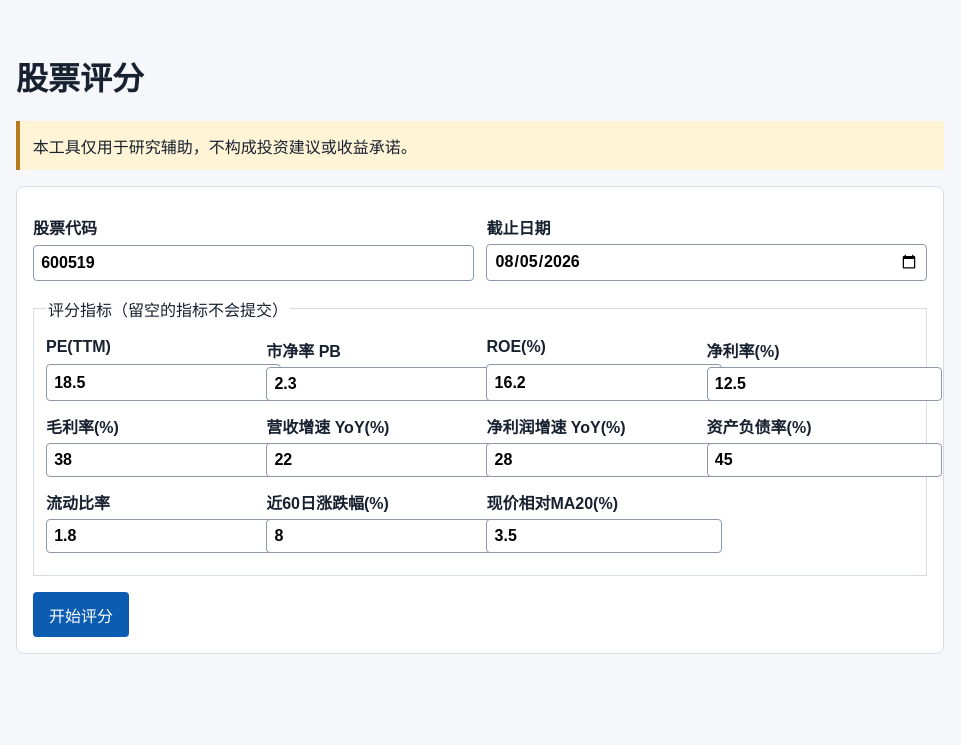
Test case: scoring page › shows only coverage and missing items for insufficient data
Clear the number field labelled "市净率 PB": (384, 384) [266,367,502,401]
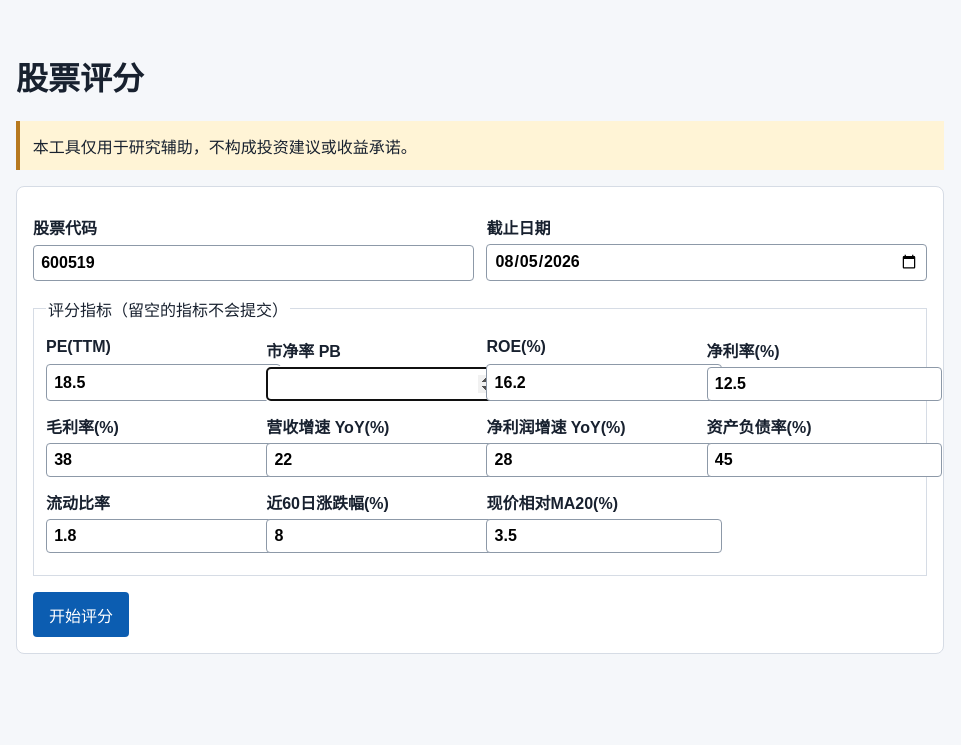
Click the button "开始评分": (81, 615) [33,592,129,637]
(page scrolled)
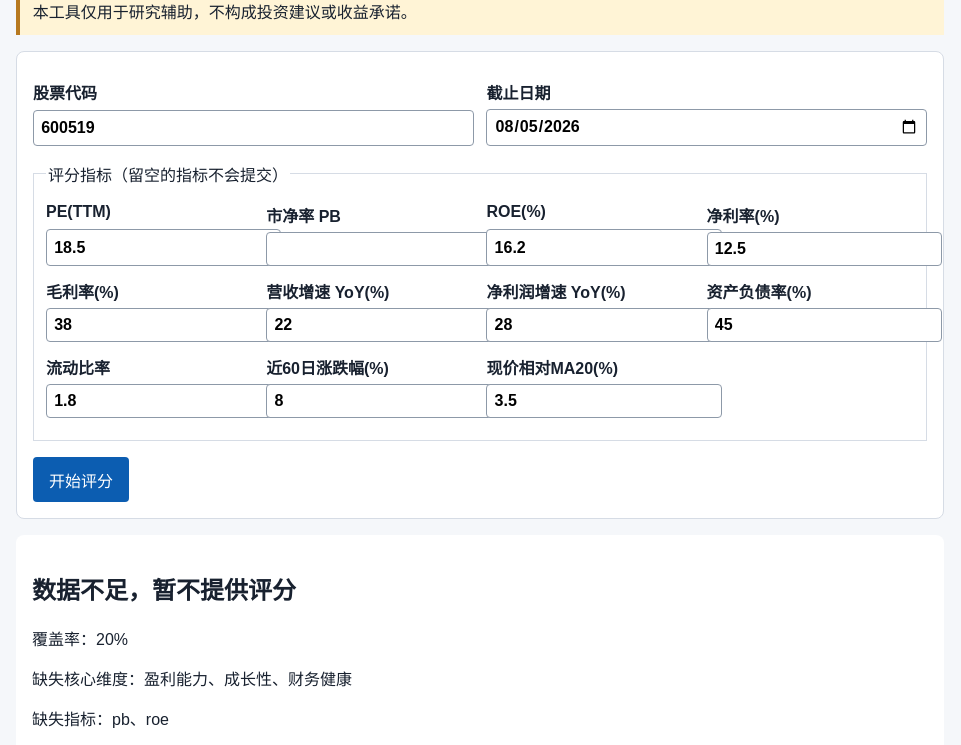
Result: the heading "数据不足，暂不提供评分" is shown at [32,577,296,604]
Result: the text "覆盖率：20%" is shown at [32,631,128,648]
Result: the text "缺失核心维度：盈利能力、成长性、财务健康" is shown at [32,671,352,688]
